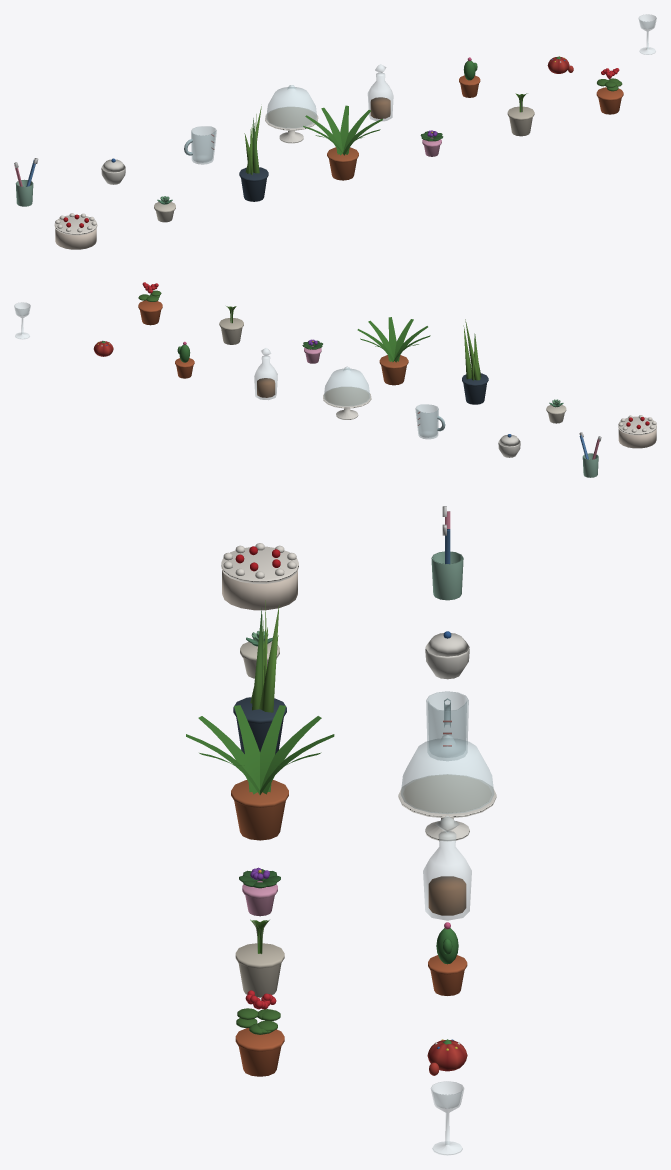
The model's file is knockables_2.glb.
3 renders of one model, top to bottom at view 1: azimuth 30°, elevation 25°; view 2: azimuth 150°, elevation 25°; view 3: azimuth 270°, elevation 25°, orthographic. The views are drawn at different scales.
Visible parts, largest first — view 1: cake_stand__dome, cake, cake_stand, fern_pot__plant, crystal_decanter__glass, measuring_jug__glass, fern_pot, snake_plant, spider_plant, snake_plant__plant, geranium_pot, sugar_bowl (+6 smaller); view 2: cake_stand__dome, cake, cake_stand, fern_pot__plant, crystal_decanter__glass, measuring_jug__glass, fern_pot, snake_plant, snake_plant__plant, spider_plant, geranium_pot, sugar_bowl (+4 smaller); view 3: cake_stand__dome, cake, cake_stand, fern_pot__plant, crystal_decanter__glass, measuring_jug__glass, fern_pot, spider_plant, geranium_pot, snake_plant__plant, sugar_bowl, crystal_decanter (+6 smaller).
Part boxes in pixels (left/top/right/bottom): cake_stand__dome: left=266, top=85, right=316, bottom=128; cake: left=54, top=213, right=97, bottom=249; cake_stand: left=265, top=106, right=318, bottom=143; fern_pot__plant: left=303, top=105, right=382, bottom=155; crystal_decanter__glass: left=367, top=73, right=393, bottom=121; measuring_jug__glass: left=191, top=126, right=216, bottom=164; fern_pot: left=327, top=147, right=358, bottom=180; snake_plant: left=239, top=167, right=268, bottom=201; spider_plant: left=507, top=106, right=534, bottom=136; snake_plant__plant: left=244, top=106, right=261, bottom=174; geranium_pot: left=596, top=87, right=623, bottom=114; sugar_bowl: left=101, top=158, right=125, bottom=184; cake_stand__dome: left=324, top=366, right=370, bottom=406; cake: left=618, top=415, right=656, bottom=448; cake_stand: left=323, top=386, right=371, bottom=419; fern_pot__plant: left=357, top=317, right=430, bottom=362; crystal_decanter__glass: left=254, top=355, right=277, bottom=399; measuring_jug__glass: left=415, top=404, right=438, bottom=439; fern_pot: left=379, top=355, right=408, bottom=385; snake_plant: left=462, top=373, right=488, bottom=404; snake_plant__plant: left=463, top=319, right=481, bottom=380; spider_plant: left=219, top=318, right=243, bottom=344; geranium_pot: left=138, top=300, right=162, bottom=325; sugar_bowl: left=498, top=434, right=520, bottom=457; cake_stand__dome: left=400, top=734, right=494, bottom=814; cake: left=221, top=543, right=298, bottom=610; cake_stand: left=398, top=774, right=496, bottom=841; fern_pot__plant: left=186, top=705, right=334, bottom=794; crystal_decanter__glass: left=423, top=831, right=471, bottom=920; measuring_jug__glass: left=426, top=691, right=468, bottom=760; fern_pot: left=231, top=780, right=288, bottom=840; spider_plant: left=235, top=943, right=284, bottom=997; geranium_pot: left=235, top=1028, right=284, bottom=1076; snake_plant__plant: left=250, top=600, right=279, bottom=712; sugar_bowl: left=425, top=631, right=469, bottom=679; crystal_decanter: left=428, top=876, right=466, bottom=915.
Size of the model in its own units: 3.06 by 0.406 by 0.722.
